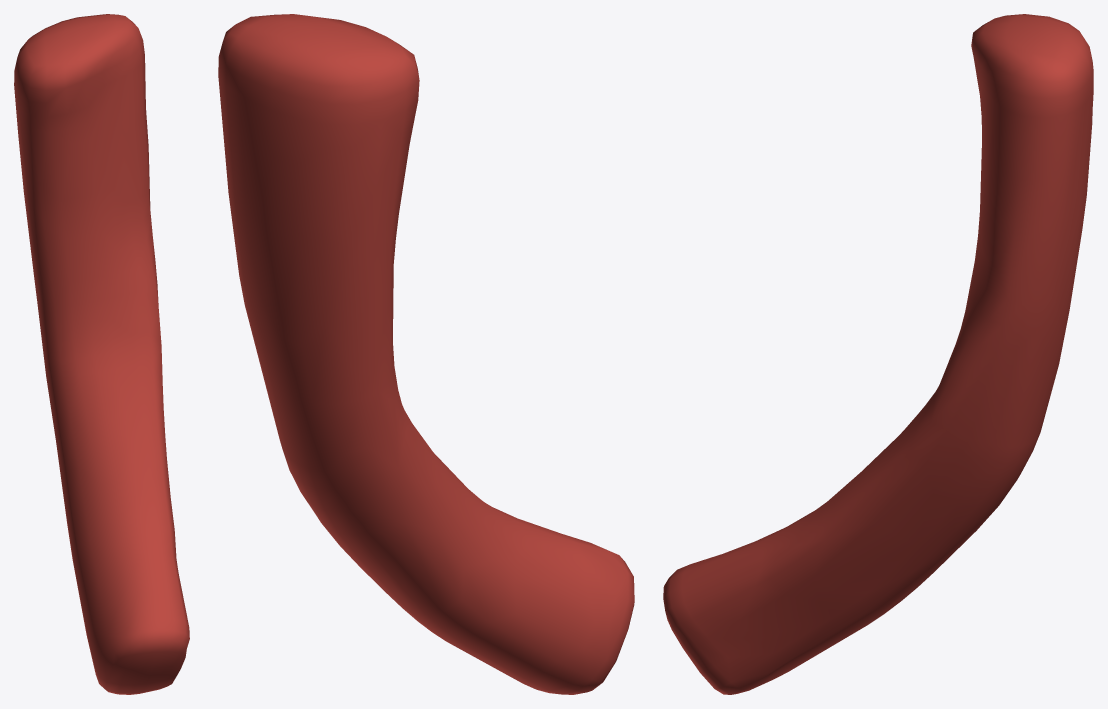
File: musculos-common-tendon-sheath-of-fibularis-muscles-r.glb
The picture shows the model from 3 angles, left to right: view 1: azimuth 30°, elevation 25°; view 2: azimuth 150°, elevation 25°; view 3: azimuth 270°, elevation 25°; orthographic projection. The views are drawn at different scales.
Visible parts, largest first — view 1: Common tendon sheath of fibularis muscles.r; view 2: Common tendon sheath of fibularis muscles.r; view 3: Common tendon sheath of fibularis muscles.r.
Boxes of the visible parts, box(x1,y1,x2,y2) form: Common tendon sheath of fibularis muscles.r: box(14, 14, 189, 694); Common tendon sheath of fibularis muscles.r: box(218, 14, 634, 694); Common tendon sheath of fibularis muscles.r: box(663, 14, 1093, 694).
Size of the model in its own units: 0.0134 by 0.0429 by 0.0242.
